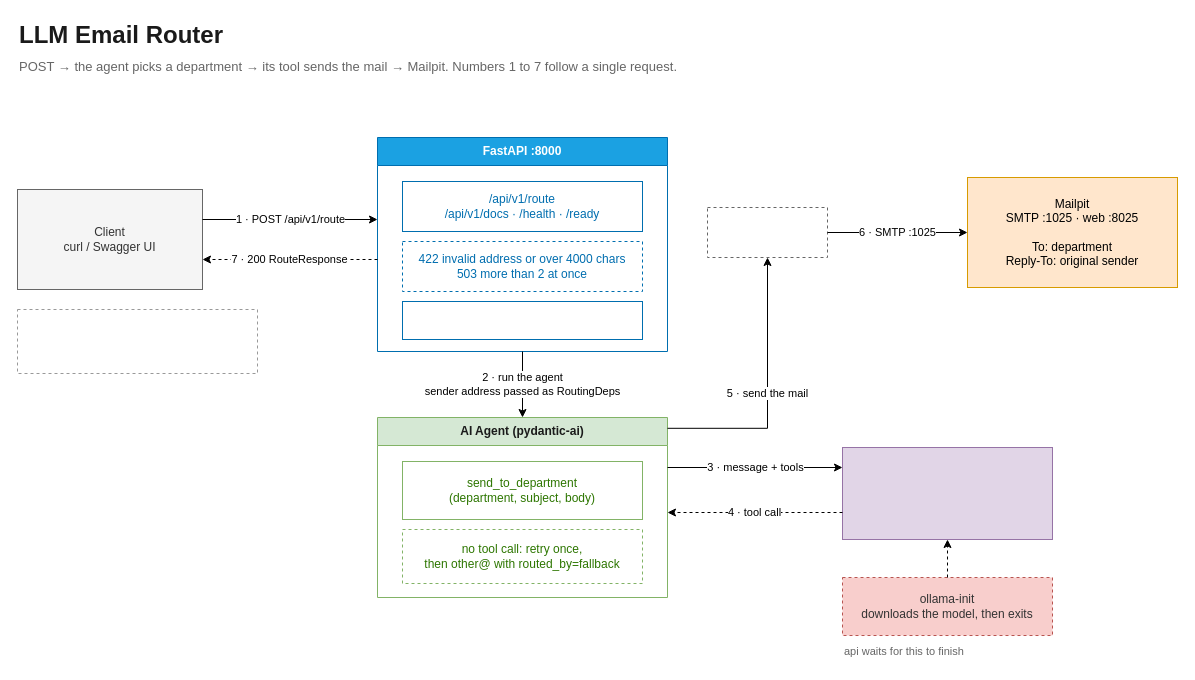
Image size: 1195x680. Some labels were removed from this diagram. Here are the shapes that lost their labels. From the top down, the centre of each, then its label:
(x=767, y=232): EmailSender
(x=522, y=320): RoutingService
(x=137, y=341): RouteResponse department · reasoning · message_id routed_by · processing_time_ms
(x=947, y=493): Ollama :11434 qwen3:4b-instruct
